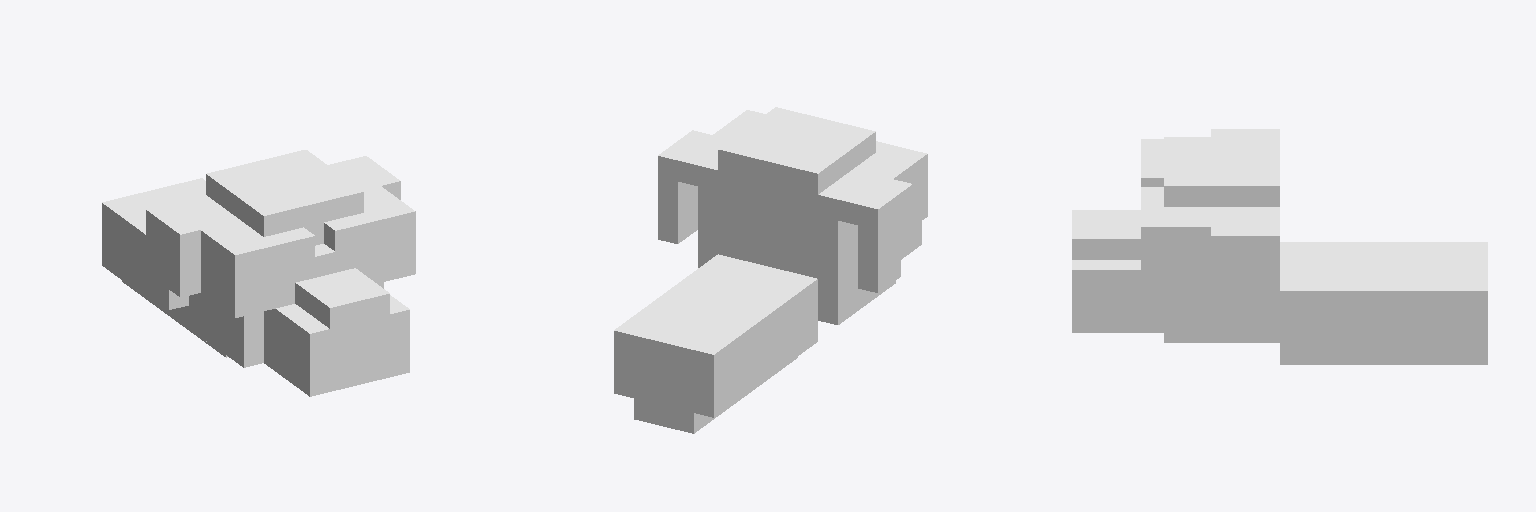
File: gglive_dog_main.obj
3 renders of one model, left to right at view 1: azimuth 30°, elevation 25°; view 2: azimuth 150°, elevation 25°; view 3: azimuth 270°, elevation 25°, orthographic.
Parts seen in each view (by area): view 1: gglive_dog_main; view 2: gglive_dog_main; view 3: gglive_dog_main.
Part boxes in pixels (x1,y1,x2,y2): gglive_dog_main: (102, 150, 415, 396); gglive_dog_main: (614, 107, 927, 433); gglive_dog_main: (1072, 129, 1487, 364).
Size of the model in its own units: 11 by 9 by 18.